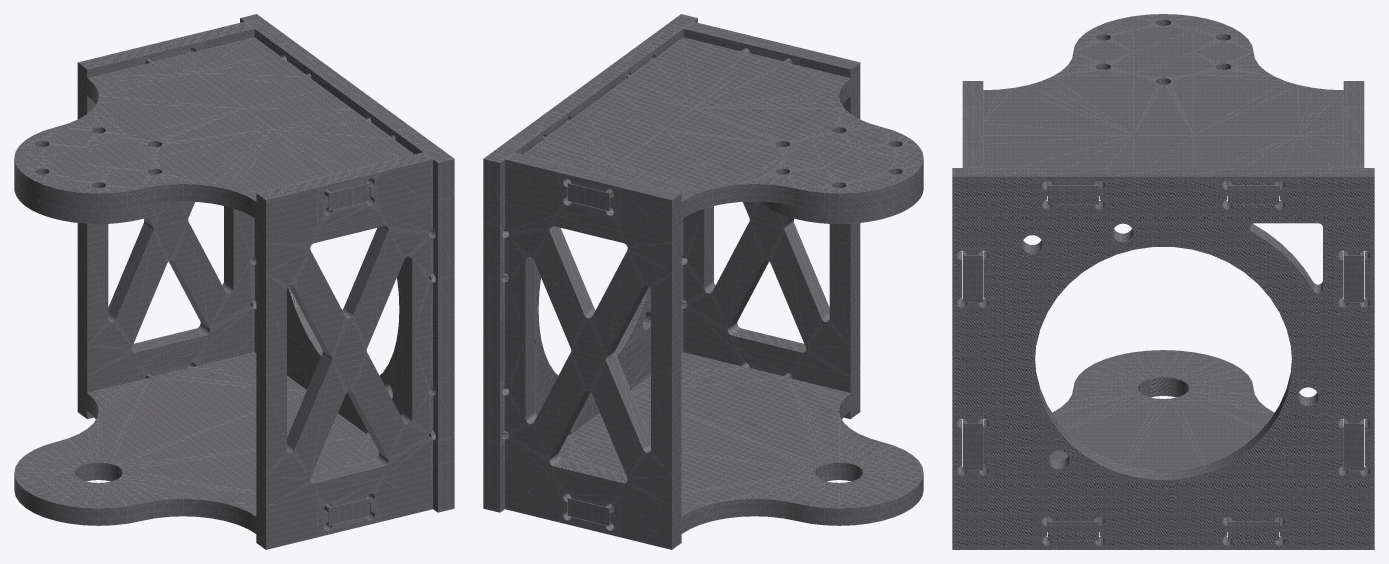
3 views of the same model, side by side, from view 1: azimuth 30°, elevation 25°; view 2: azimuth 150°, elevation 25°; view 3: azimuth 270°, elevation 25° (orthographic). The views are drawn at different scales.
Parts seen in each view (by area): view 1: 小臂拼插侧板-1, 小臂拼插上-1, 小臂拼插下-1, 小臂拼插侧板-2, 拼插小臂roll连接板-1, 4310垫高片-1; view 2: 小臂拼插侧板-2, 小臂拼插上-1, 小臂拼插下-1, 小臂拼插侧板-1, 拼插小臂roll连接板-1, 4310垫高片-1; view 3: 拼插小臂roll连接板-1, 小臂拼插上-1, 小臂拼插下-1, 小臂拼插侧板-1, 小臂拼插侧板-2.
Boxes of the visible parts, x1,y1,x2,y2 form: 小臂拼插侧板-1: [256, 152, 435, 549]; 小臂拼插上-1: [14, 37, 413, 218]; 小臂拼插下-1: [14, 352, 378, 533]; 小臂拼插侧板-2: [77, 21, 256, 419]; 拼插小臂roll连接板-1: [240, 14, 454, 512]; 4310垫高片-1: [14, 176, 176, 223]; 小臂拼插侧板-2: [502, 152, 681, 549]; 小臂拼插上-1: [524, 37, 923, 218]; 小臂拼插下-1: [559, 352, 923, 533]; 小臂拼插侧板-1: [681, 21, 860, 419]; 拼插小臂roll连接板-1: [483, 14, 697, 512]; 4310垫高片-1: [761, 176, 923, 223]; 拼插小臂roll连接板-1: [952, 168, 1374, 549]; 小臂拼插上-1: [983, 14, 1343, 204]; 小臂拼插下-1: [983, 350, 1343, 540]; 小臂拼插侧板-1: [962, 81, 983, 470]; 小臂拼插侧板-2: [1343, 81, 1364, 470].
Bounding box in the file's own units: 0.079 × 0.082 × 0.08.
5 materials, 5 textured.
